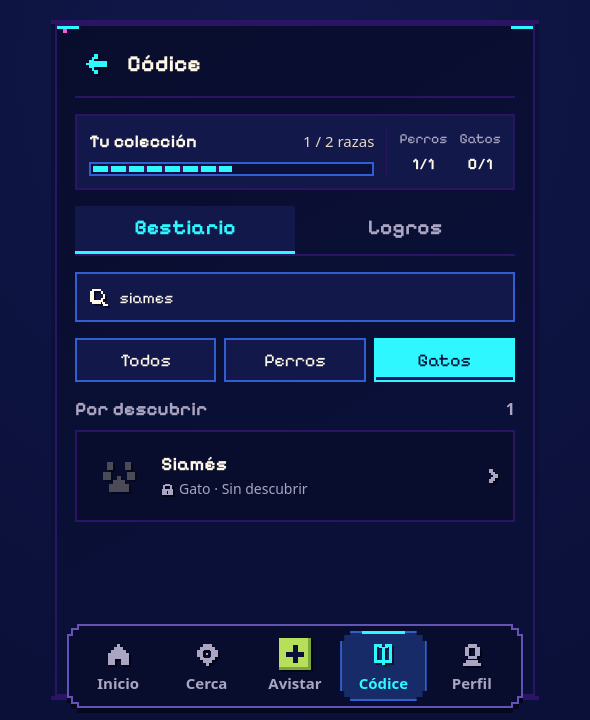
Test: preserves search and species between sections
This screenshot has width=590, height=720.
Click the link "Logros": click(405, 228) [368, 215, 442, 240]
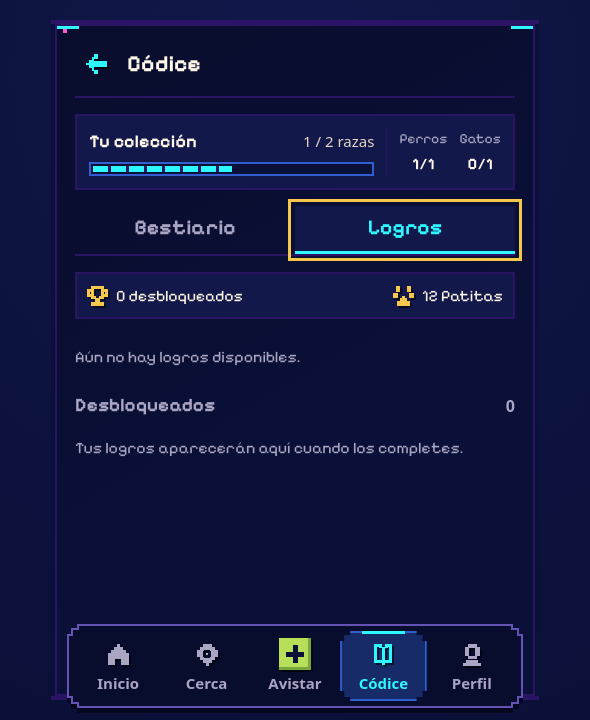
Check: the text "Aún no hay logros disponibles." is shown, box [75, 347, 300, 366]
Click the link "Bestiario": click(185, 228) [134, 215, 236, 240]
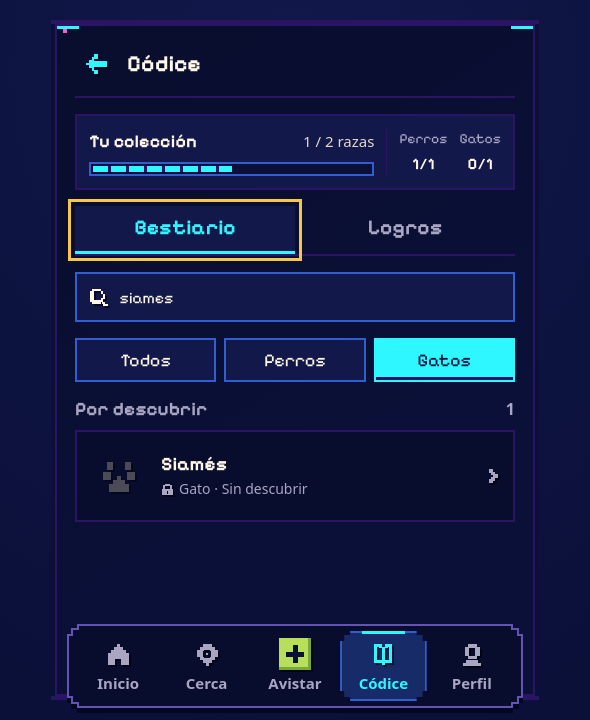
Check: the search field holds "siames", box [118, 274, 501, 320]
